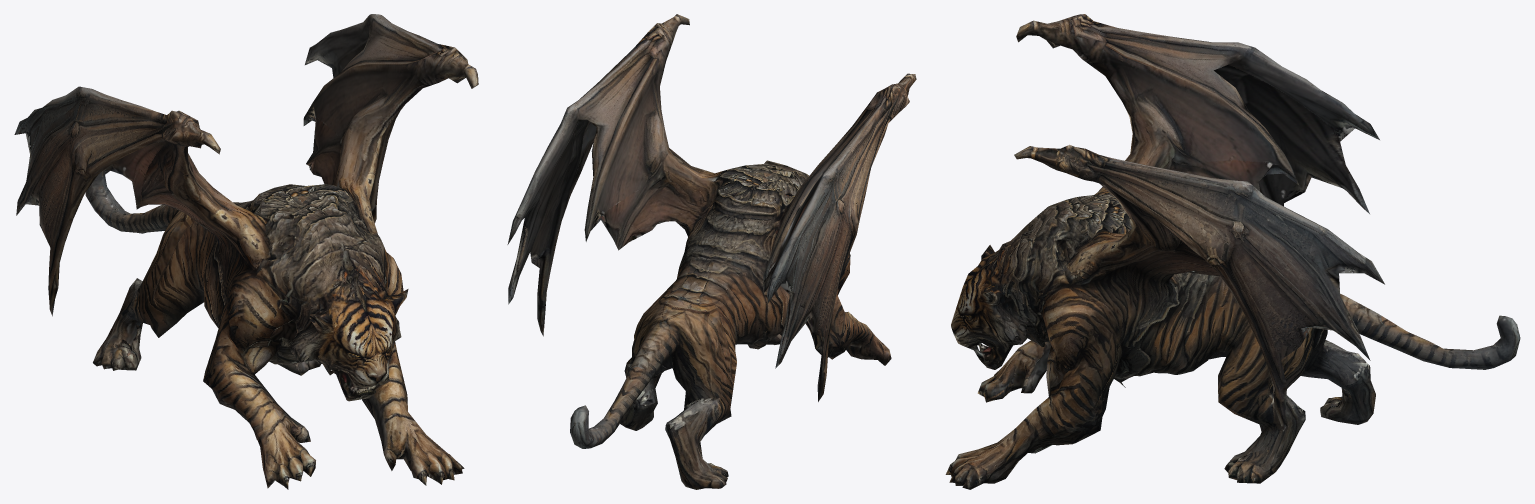
The model's file is Qiongqi.glb.
3 renders of one model, left to right at view 1: azimuth 30°, elevation 25°; view 2: azimuth 150°, elevation 25°; view 3: azimuth 270°, elevation 25°, orthographic. The views are drawn at different scales.
Parts seen in each view (by area): view 1: texture_mapping; view 2: texture_mapping; view 3: texture_mapping.
Part boxes in pixels (<box>): texture_mapping: <box>14,14,478,489</box>; texture_mapping: <box>507,14,916,489</box>; texture_mapping: <box>945,14,1520,489</box>.
Bounding box in the file's own units: 0.6619 × 0.7098 × 0.9948.
1 material, 1 textured.
